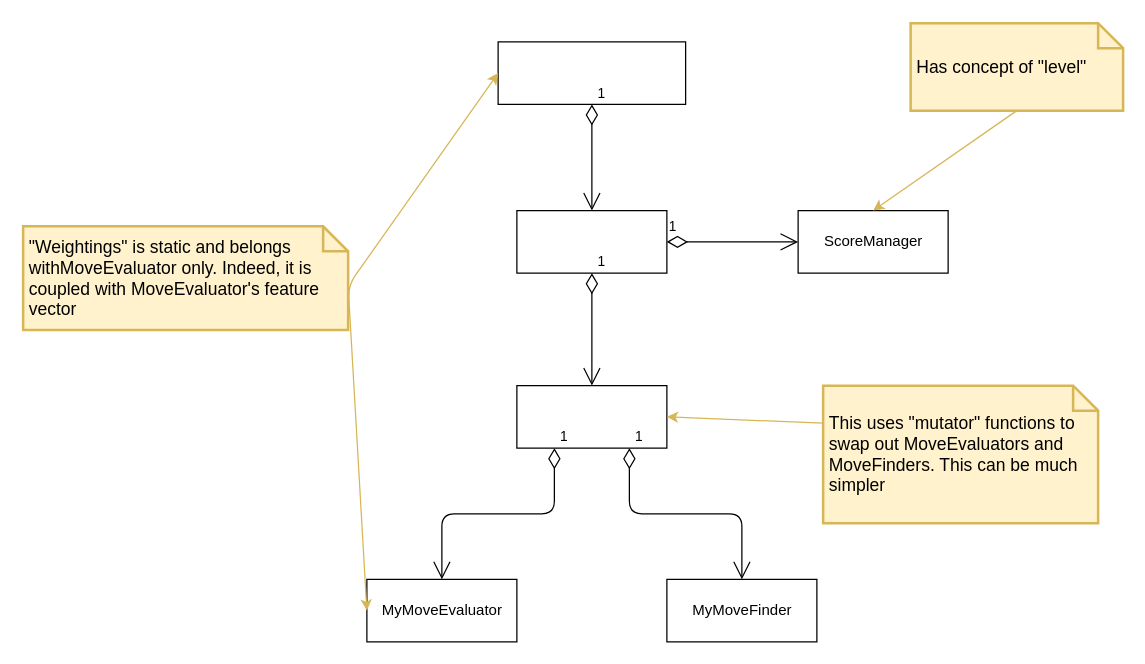
The diagram is 1145 pixels wide and 664 high, and some of its shapes have lost their labels. The centre of each missing label's shape, as x and y in pixels:
NewEvaluateWeightings EvaluateFeatureWeights: [591,72]
NewGetNextMove: [591,416]
RunPieceSet: [591,241]
